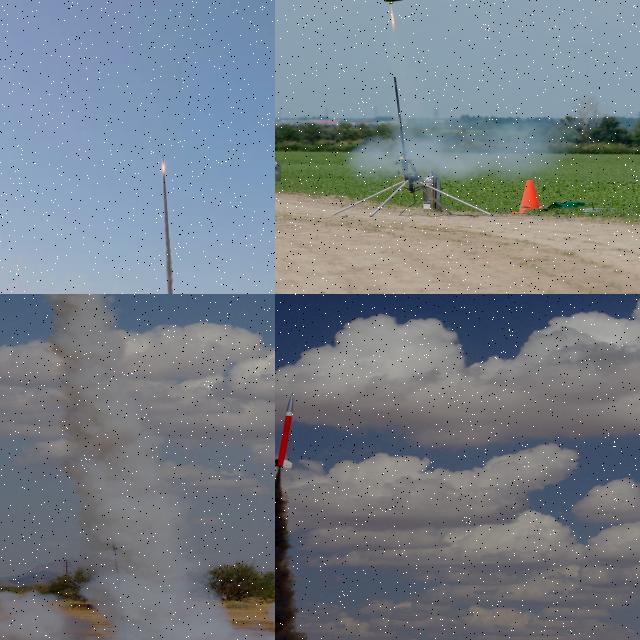Rocket: (275, 392, 294, 468), (162, 152, 165, 166)
